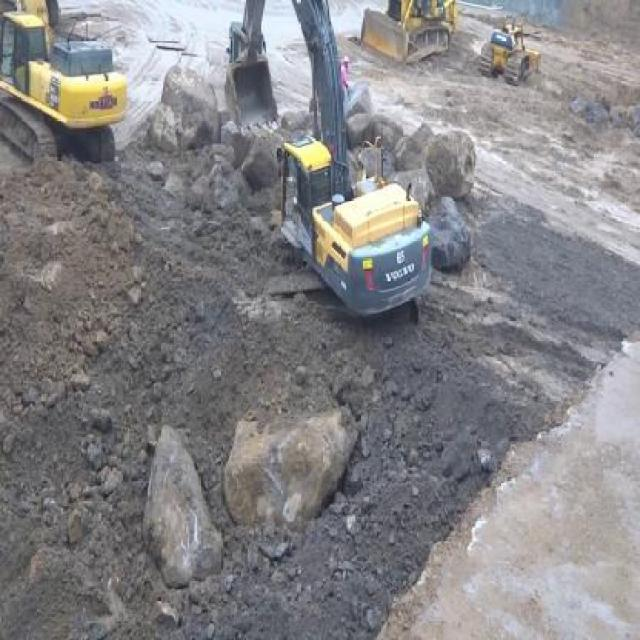Excavator: (223, 0, 434, 326), (1, 0, 127, 165)
